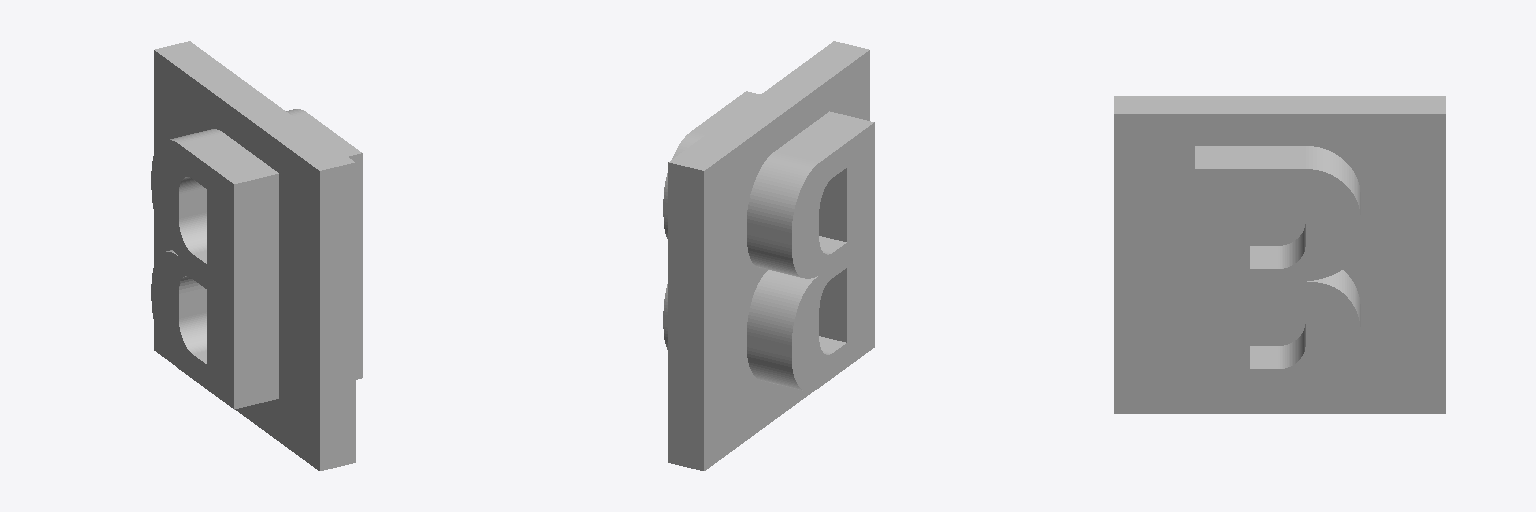
File: letter_B.obj
3 views of the same model, side by side, from view 1: azimuth 30°, elevation 25°; view 2: azimuth 150°, elevation 25°; view 3: azimuth 270°, elevation 25° (orthographic).
Visible parts, largest first — view 1: window, Text; view 2: window, Text; view 3: window, Text.
Boxes of the visible parts, box(x1,y1,x2,y2) form: window: box(154, 41, 355, 470); Text: box(151, 109, 362, 409); window: box(668, 41, 869, 470); Text: box(663, 91, 874, 391); window: box(1114, 96, 1445, 413); Text: box(1195, 146, 1360, 393).
Bounding box in the file's own units: 0.894 × 2 × 2.